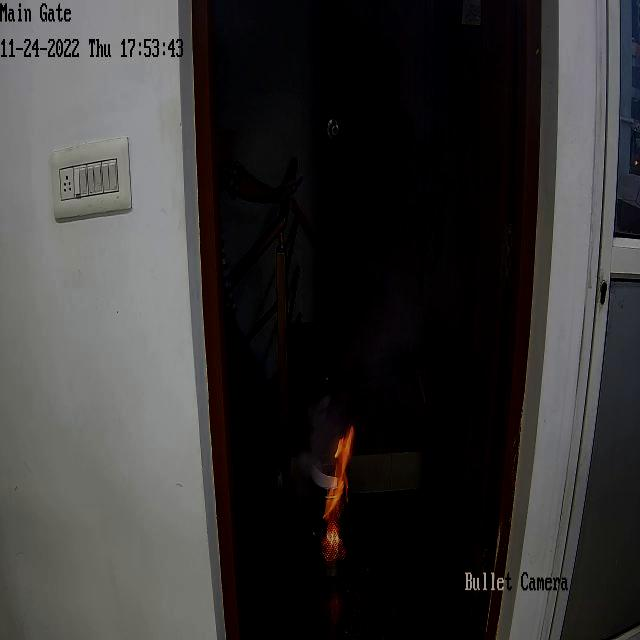fire: (331, 410, 354, 483), (324, 492, 344, 558)
smoke: (372, 259, 462, 351), (362, 5, 450, 86), (402, 70, 462, 178), (401, 191, 462, 295), (343, 332, 402, 419), (304, 392, 336, 457)
